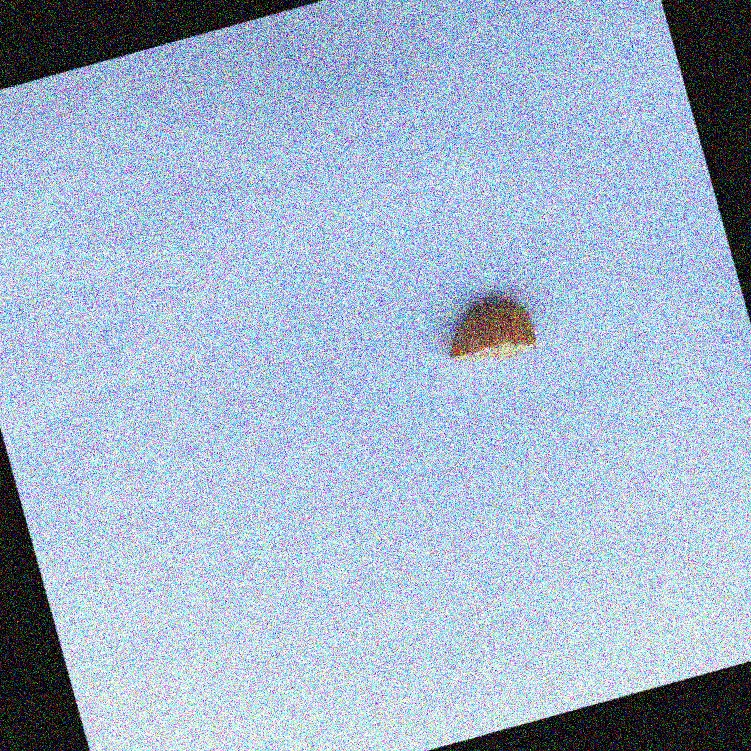grade4: (427, 282, 549, 381)
